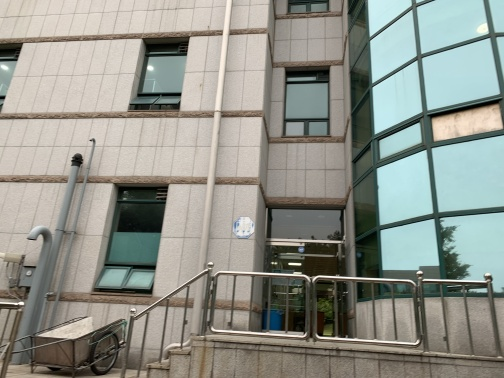Second Library: (33, 9, 490, 364)
